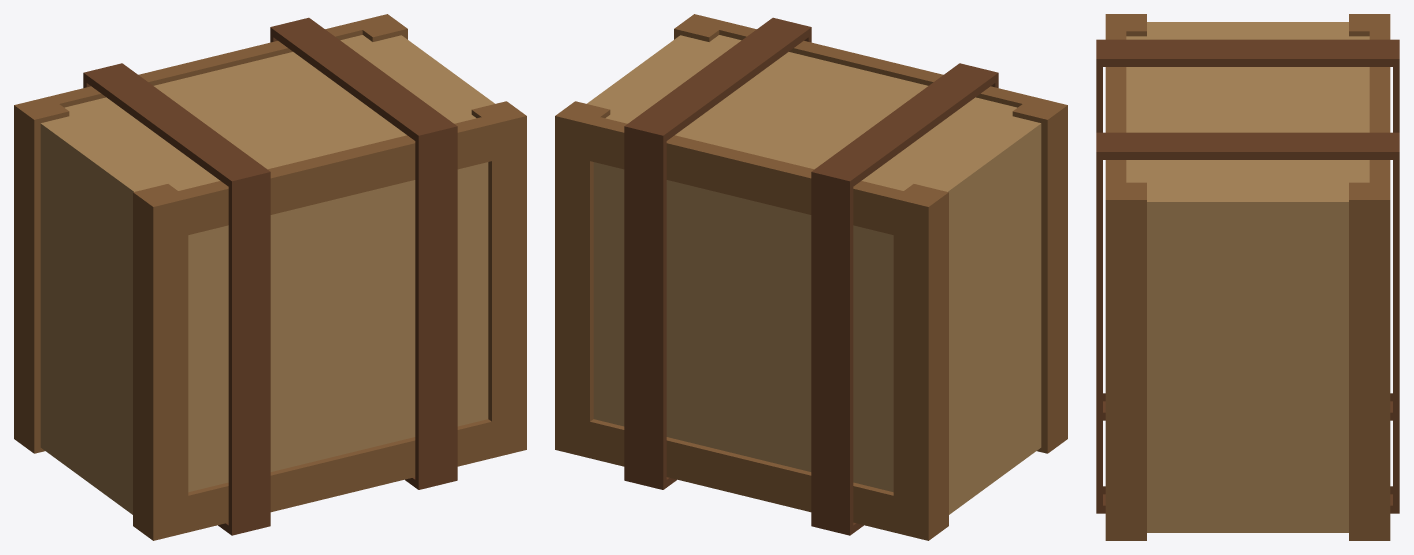
The model's file is crate_back.glb.
3 renders of one model, left to right at view 1: azimuth 30°, elevation 25°; view 2: azimuth 150°, elevation 25°; view 3: azimuth 270°, elevation 25°, orthographic. The views are drawn at different scales.
Parts seen in each view (by area): view 1: crate_back; view 2: crate_back; view 3: crate_back.
Part boxes in pixels (box(x1,y1,x2,y2)): crate_back: box(14, 14, 526, 540); crate_back: box(555, 14, 1067, 540); crate_back: box(1096, 14, 1399, 540).
Size of the model in its own units: 0.48 by 0.4351 by 0.3305.
